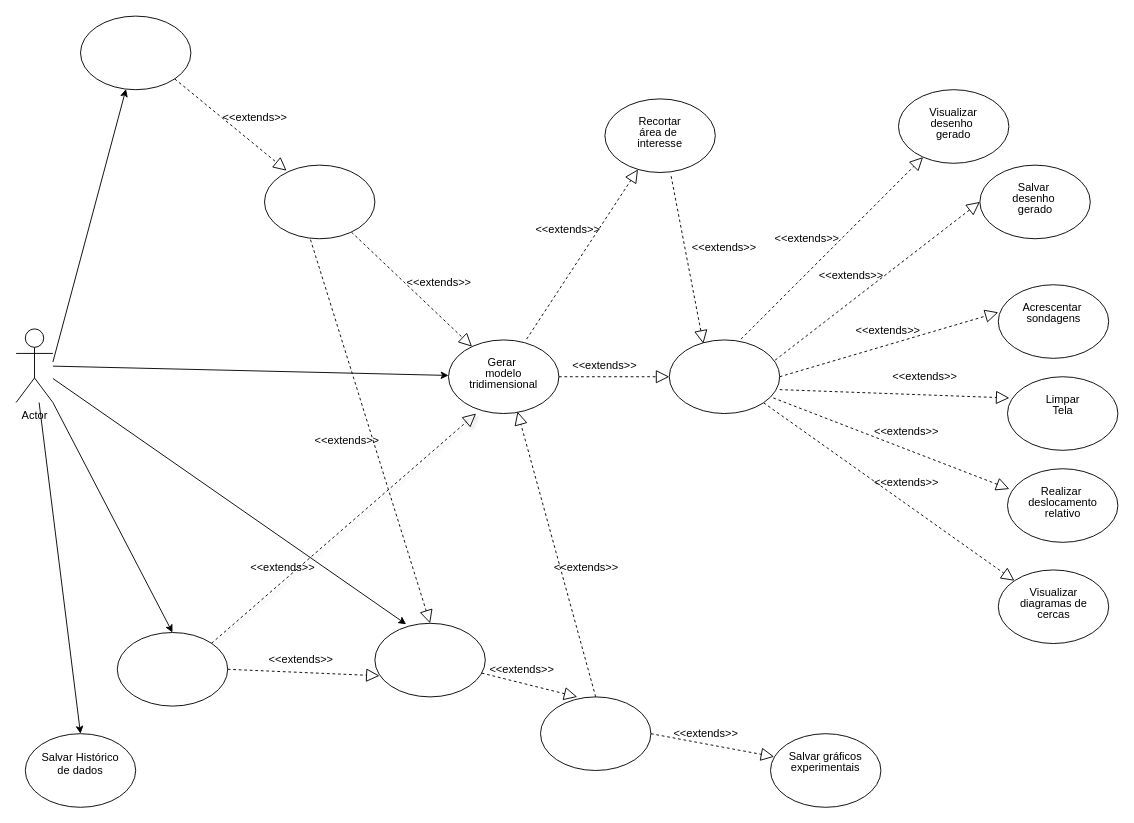
Image size: 1134x823. Some labels were removed from this diagram. The shapes that lost their labels are listed below. From the top down, each one's centre as x and y in pixels, then its label:
At point (135, 52): "Abrir Arquivo de Furos".
At point (319, 201): "Regularizar dados".
At point (724, 376): "Desenhar modelo tridimensional".
At point (172, 669): "Fundir Modelos".
At point (429, 659): "Calcular Variogramas Experimentais".
At point (595, 733): "Gerar Modelos Experimentais".
